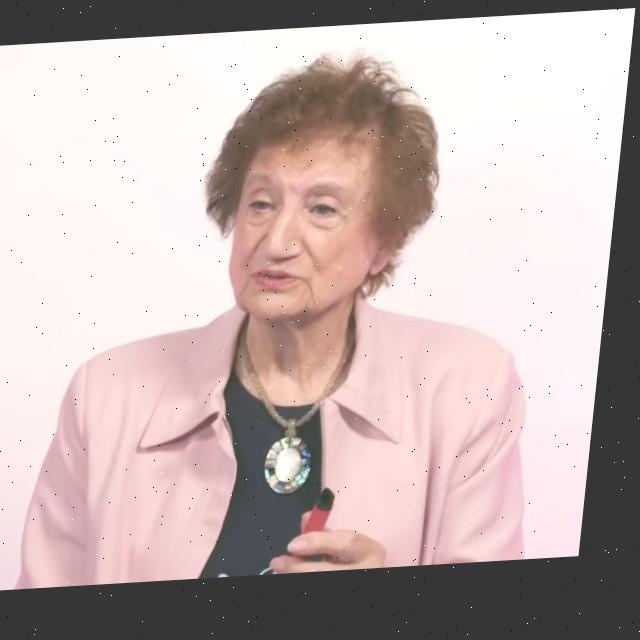vape: (312, 492, 348, 541)
